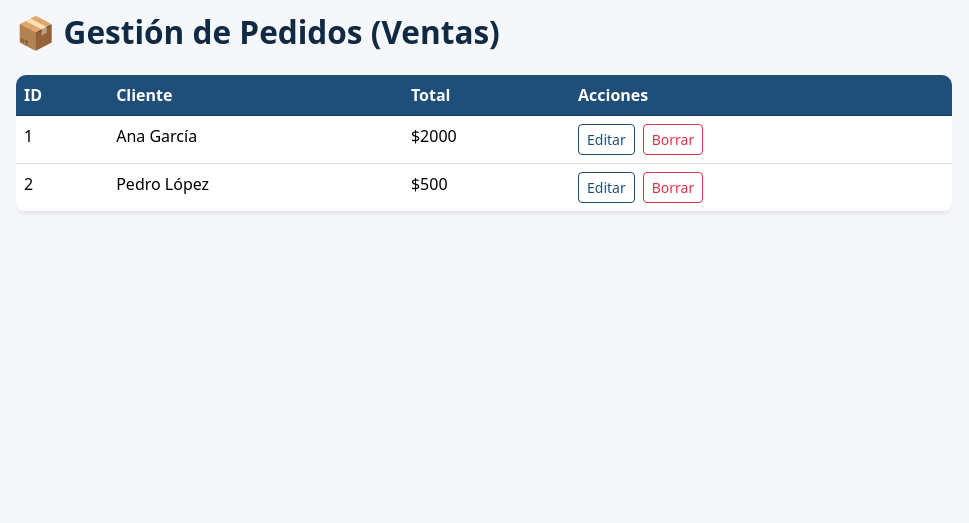
Test: GestionPedidos › abre el panel de edición al hacer click en Editar
The width and height of the screenshot is (969, 523).
expect the text "Ana García" is shown: met, box x1=108 y1=115 x2=403 y2=163
Click the button "Editar" in the row of "Ana García".
click(606, 139)  # box x1=578 y1=124 x2=635 y2=155
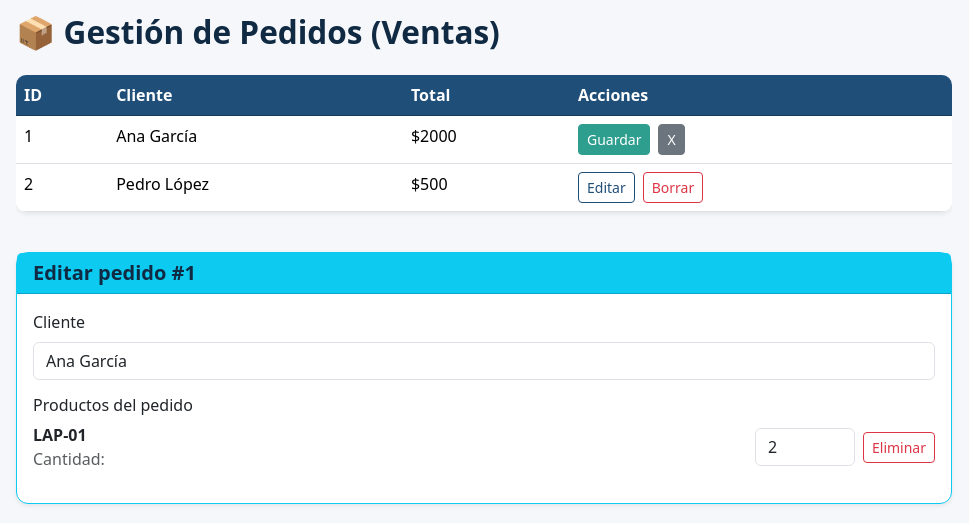
expect the heading "Editar pedido #1" is shown: met, box x1=33 y1=259 x2=196 y2=286
